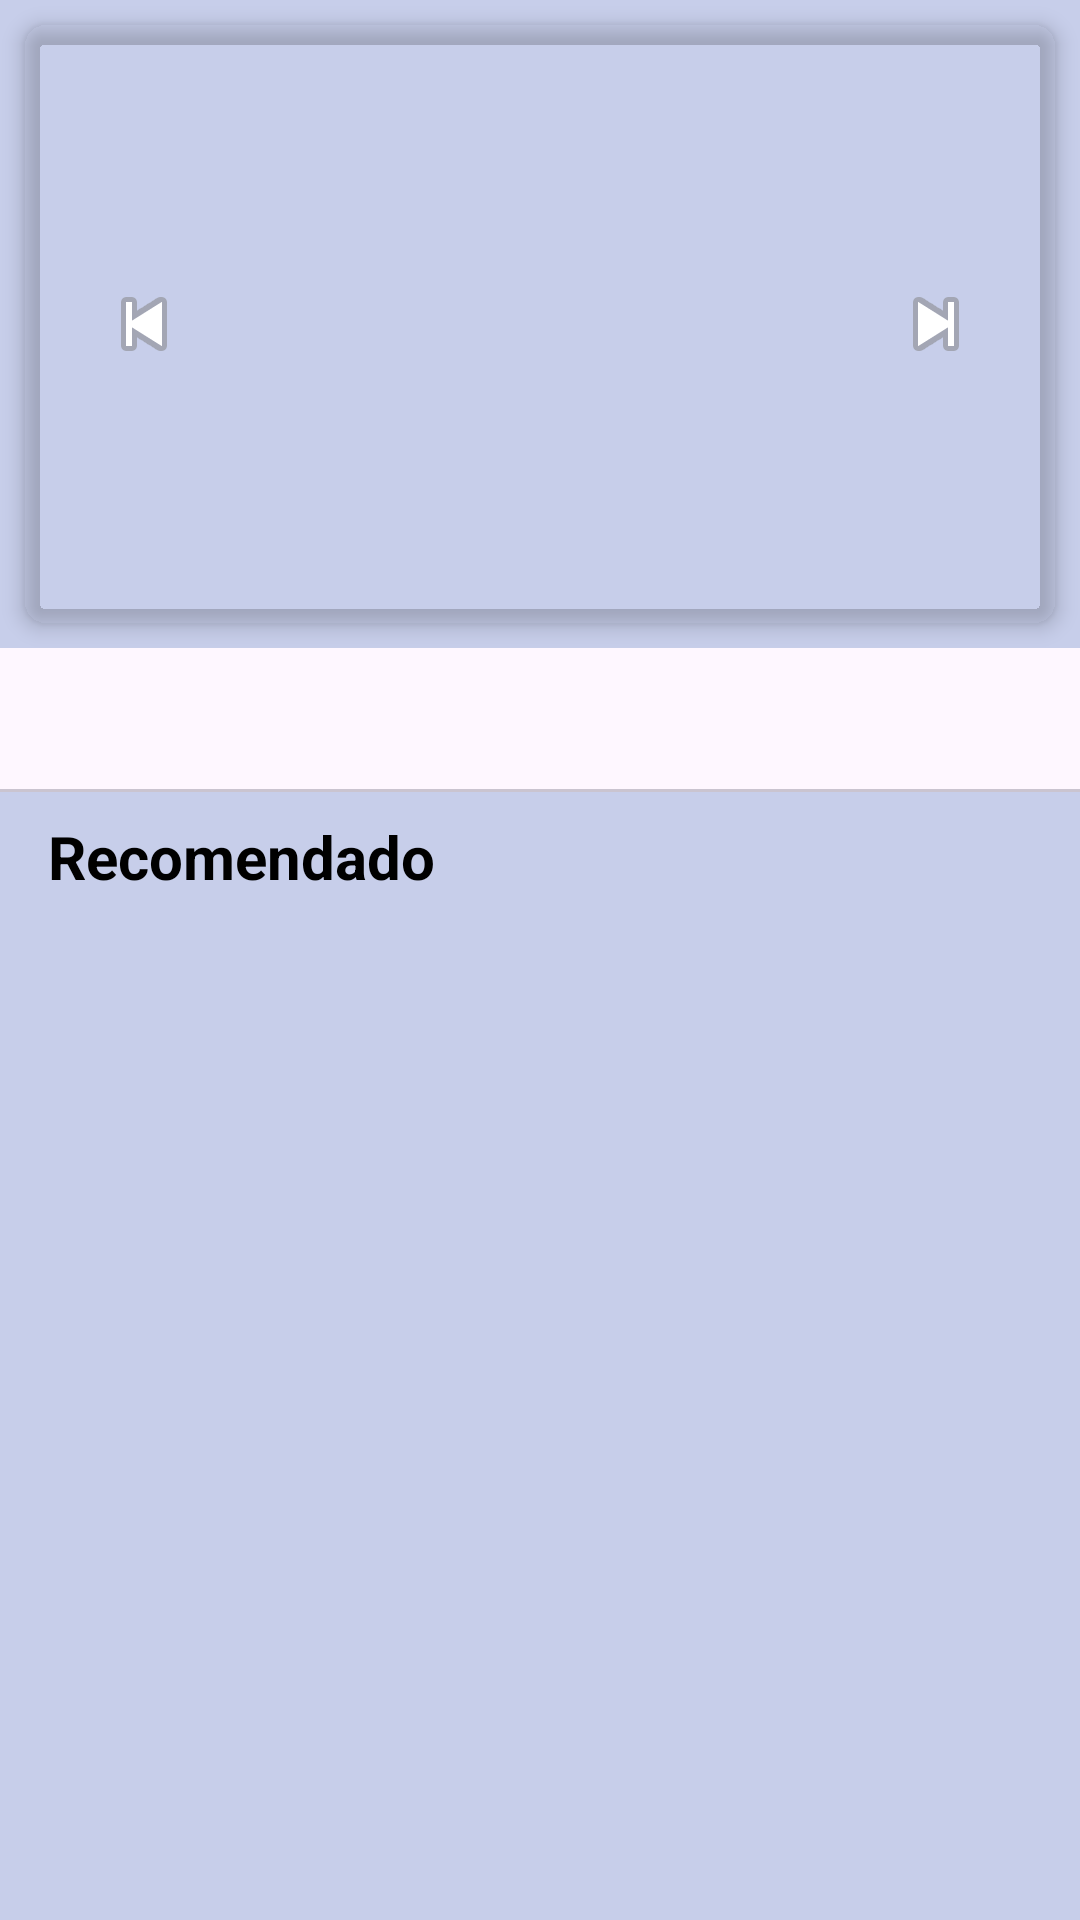

Icon click points for this 1080px×1920px phone screenshot, format [x,y]:
Next: [936,324]
Previous: [144,324]
